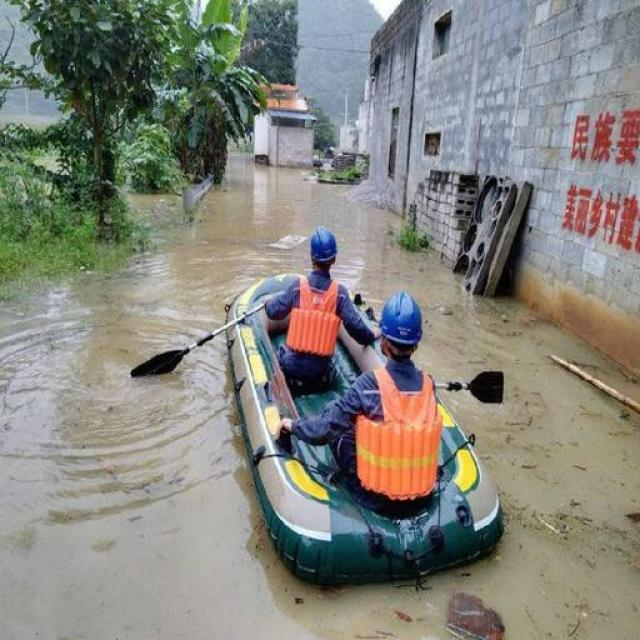rescuer: (353, 288, 448, 512), (278, 222, 352, 398)
